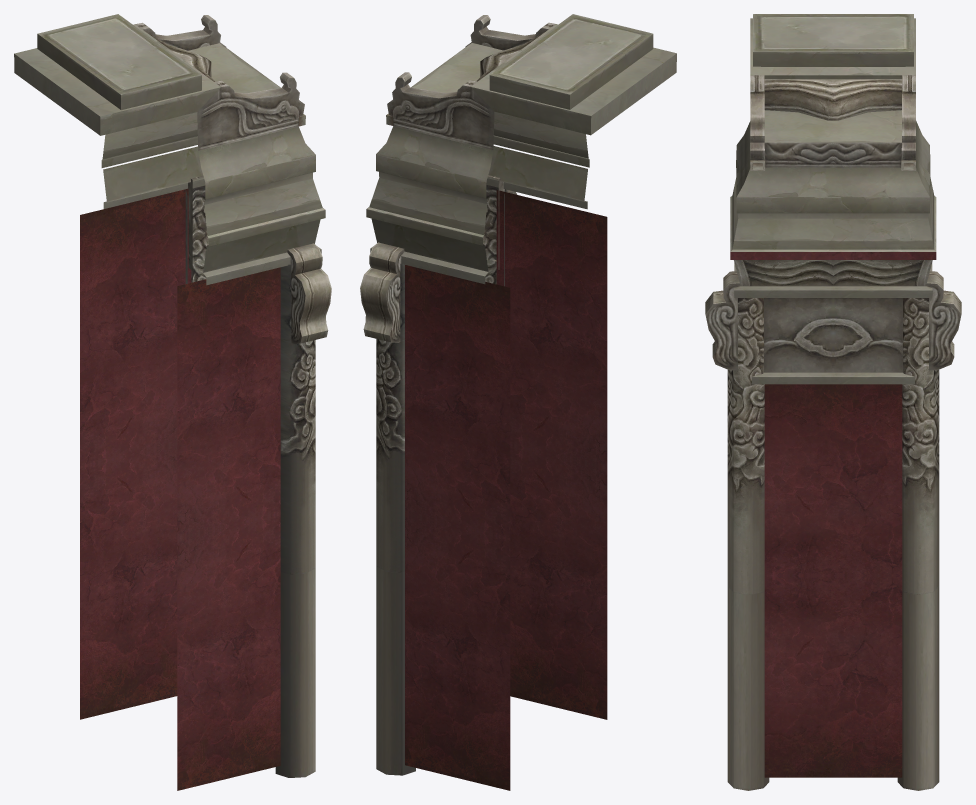
The model's file is cj_xinshou_qiang02_53_42_1150out.fbx.
3 renders of one model, left to right at view 1: azimuth 30°, elevation 25°; view 2: azimuth 150°, elevation 25°; view 3: azimuth 270°, elevation 25°, orthographic. The views are drawn at different scales.
Parts seen in each view (by area): view 1: cj_xinshou_qiang02; view 2: cj_xinshou_qiang02; view 3: cj_xinshou_qiang02.
Boxes of the visible parts, box(x1,y1,x2,y2) form: cj_xinshou_qiang02: box(14, 14, 331, 790); cj_xinshou_qiang02: box(360, 14, 676, 790); cj_xinshou_qiang02: box(705, 14, 961, 790).
Bounding box in the file's own units: 1.62 × 5.15 × 1.74.
